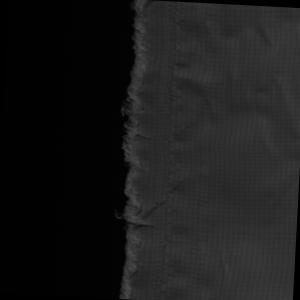Damage: (105, 1, 158, 300)
Wrinkle: (176, 5, 300, 300)
